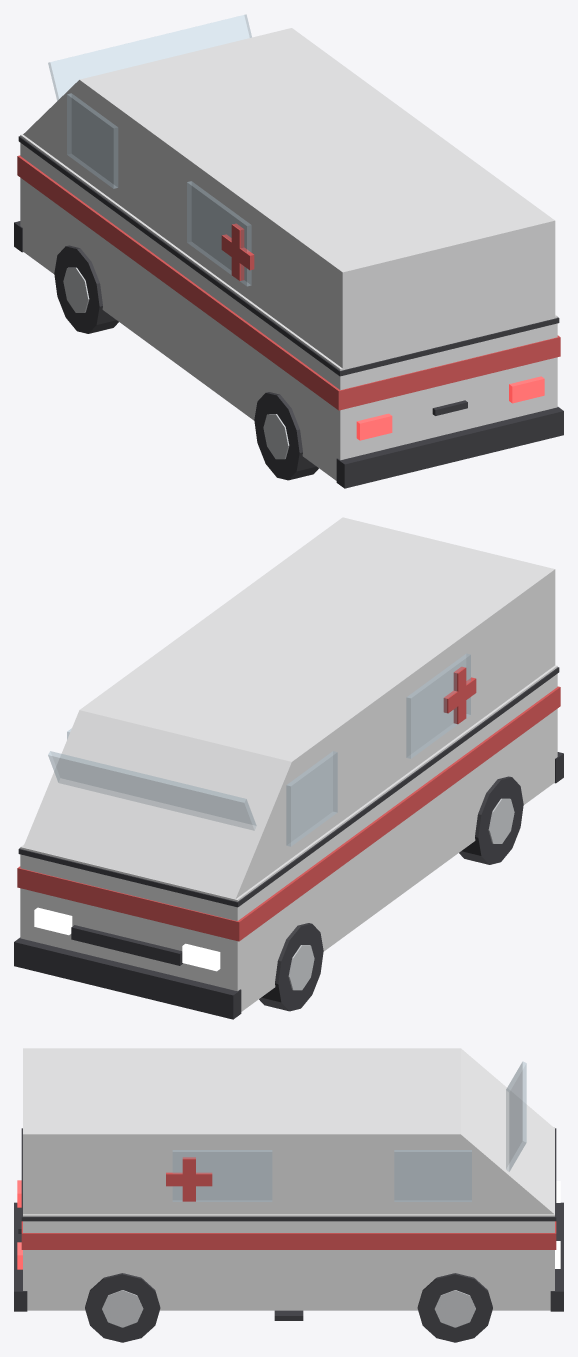
Rendered from ambulance.glb.
The picture shows the model from 3 angles, top to bottom: view 1: azimuth 30°, elevation 25°; view 2: azimuth 150°, elevation 25°; view 3: azimuth 270°, elevation 25°; orthographic projection. The views are drawn at different scales.
Visible parts, largest first — view 1: body, wheel_fl, wheel_rl; view 2: body, wheel_rl, wheel_fl; view 3: body, wheel_fr, wheel_rr.
Part boxes in pixels (x1,y1,x2,y2): body: (14,14,563,488); wheel_fl: (54,245,118,333); wheel_rl: (254,392,318,480); body: (14,517,563,1019); wheel_rl: (459,776,523,864); wheel_fl: (259,923,323,1011); body: (14,1048,563,1311); wheel_fr: (417,1273,492,1342); wheel_rr: (85,1273,160,1342).
Bounding box in the file's own units: 1.96 × 2.12 × 4.96.
